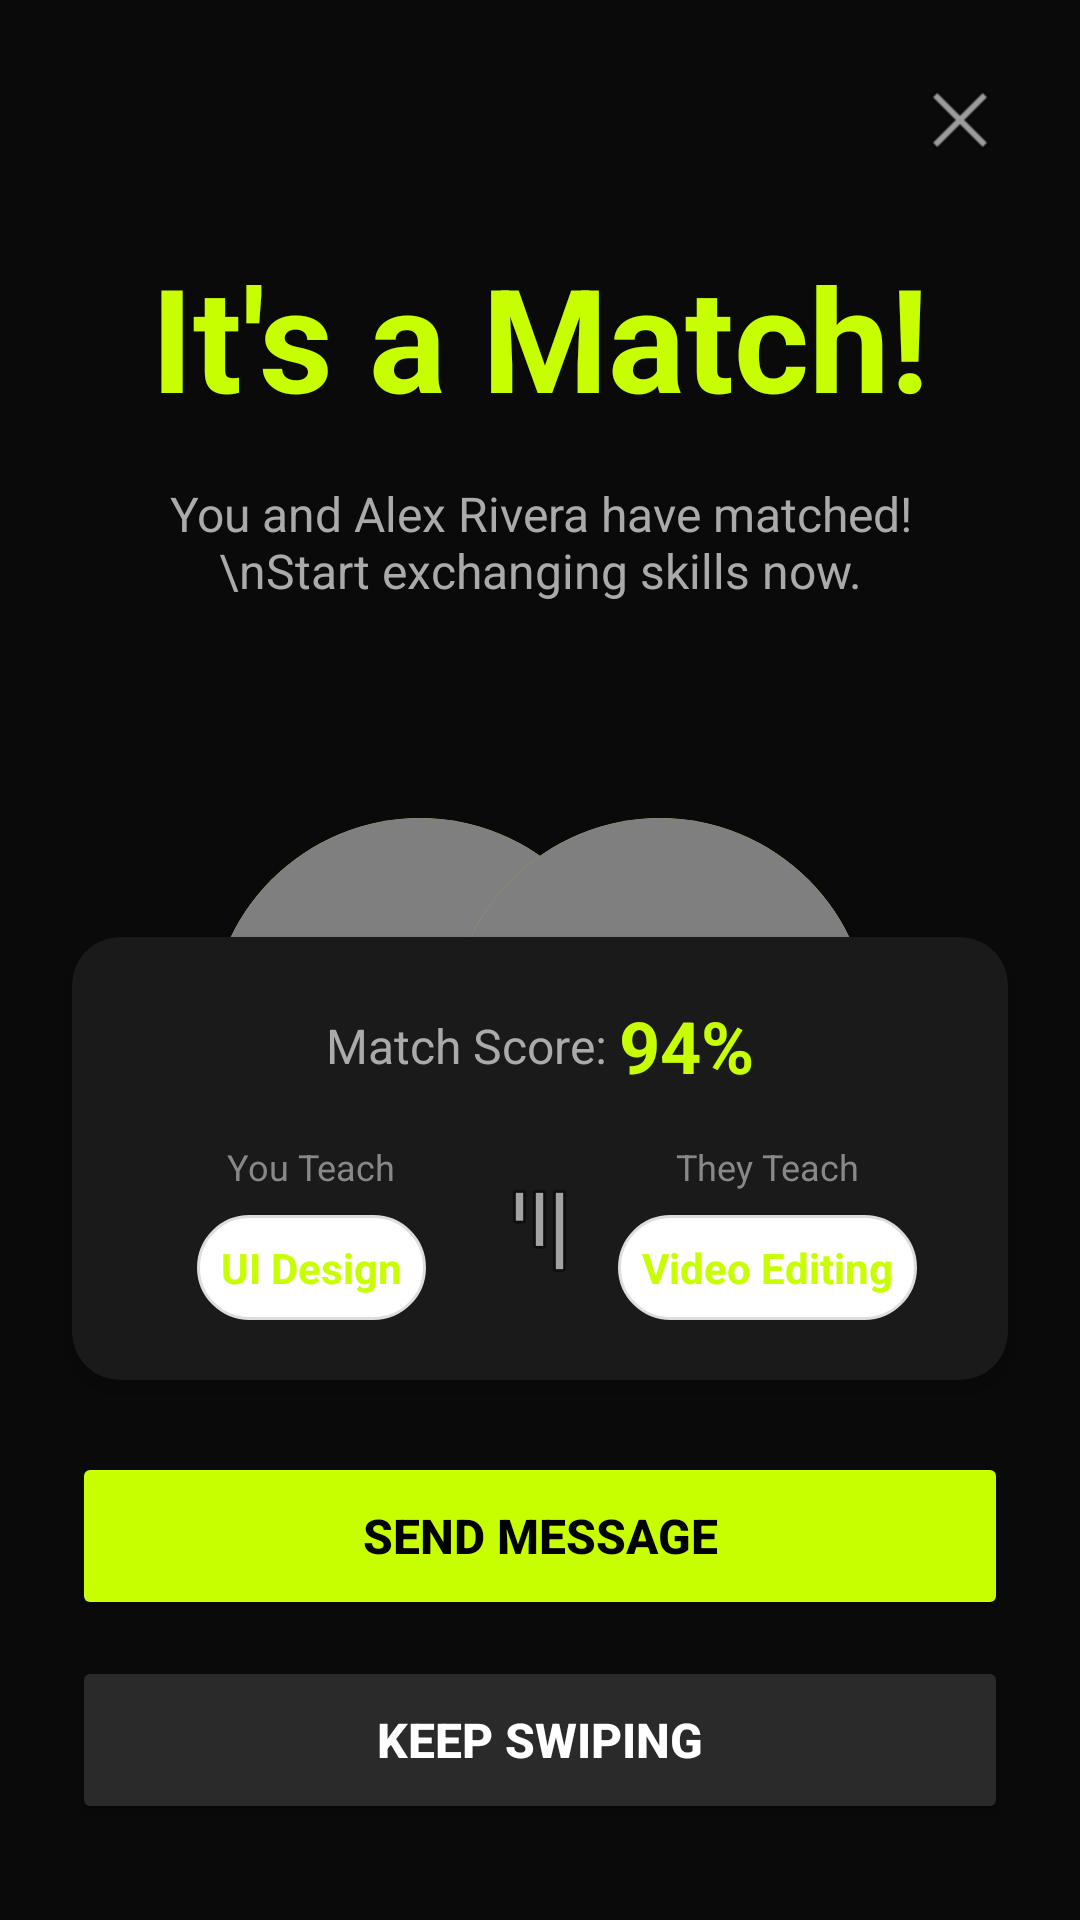

Screen size 1080 × 1920. Icon name, then its box in pixels as region(x1, y1, x2, y2):
close clear cancel: region(933, 93, 987, 147)
